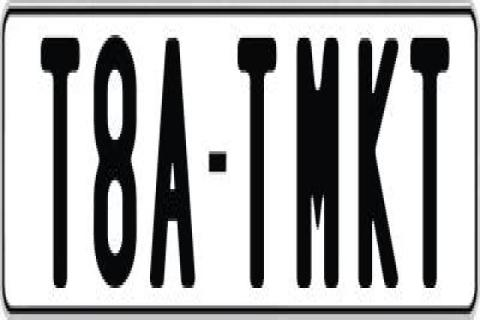0: (92, 35, 134, 294)
A: (150, 35, 196, 299)
K: (358, 35, 400, 291)
M: (292, 35, 342, 285)
T: (238, 29, 284, 297), (407, 38, 453, 288), (38, 29, 78, 288)
